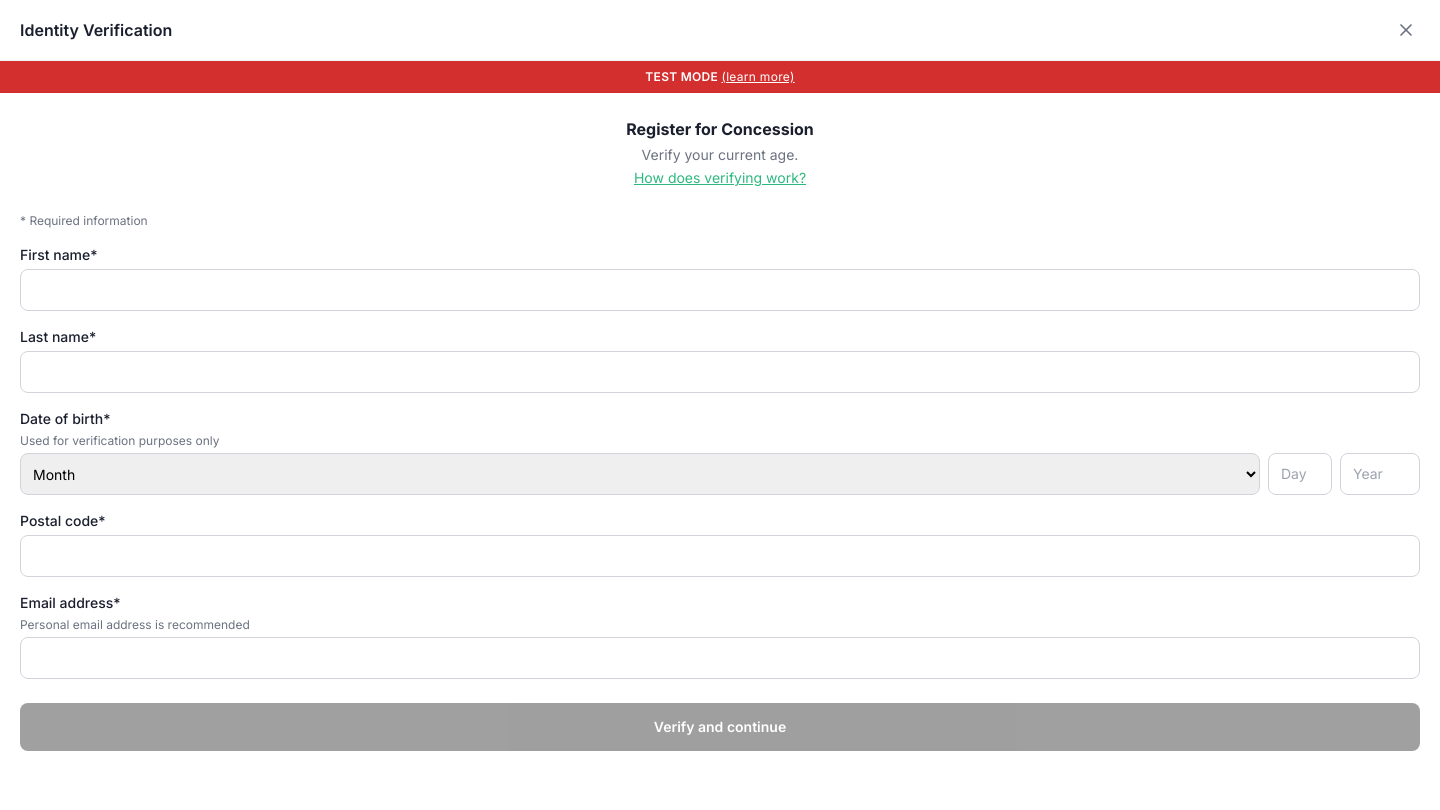
Test: SheerIDModal › clicking TEST MODE banner autofills all fields and enables Verify and continue
Click the button "TEST MODE (learn more)" at x=720, y=77, box [0,61,1439,93]
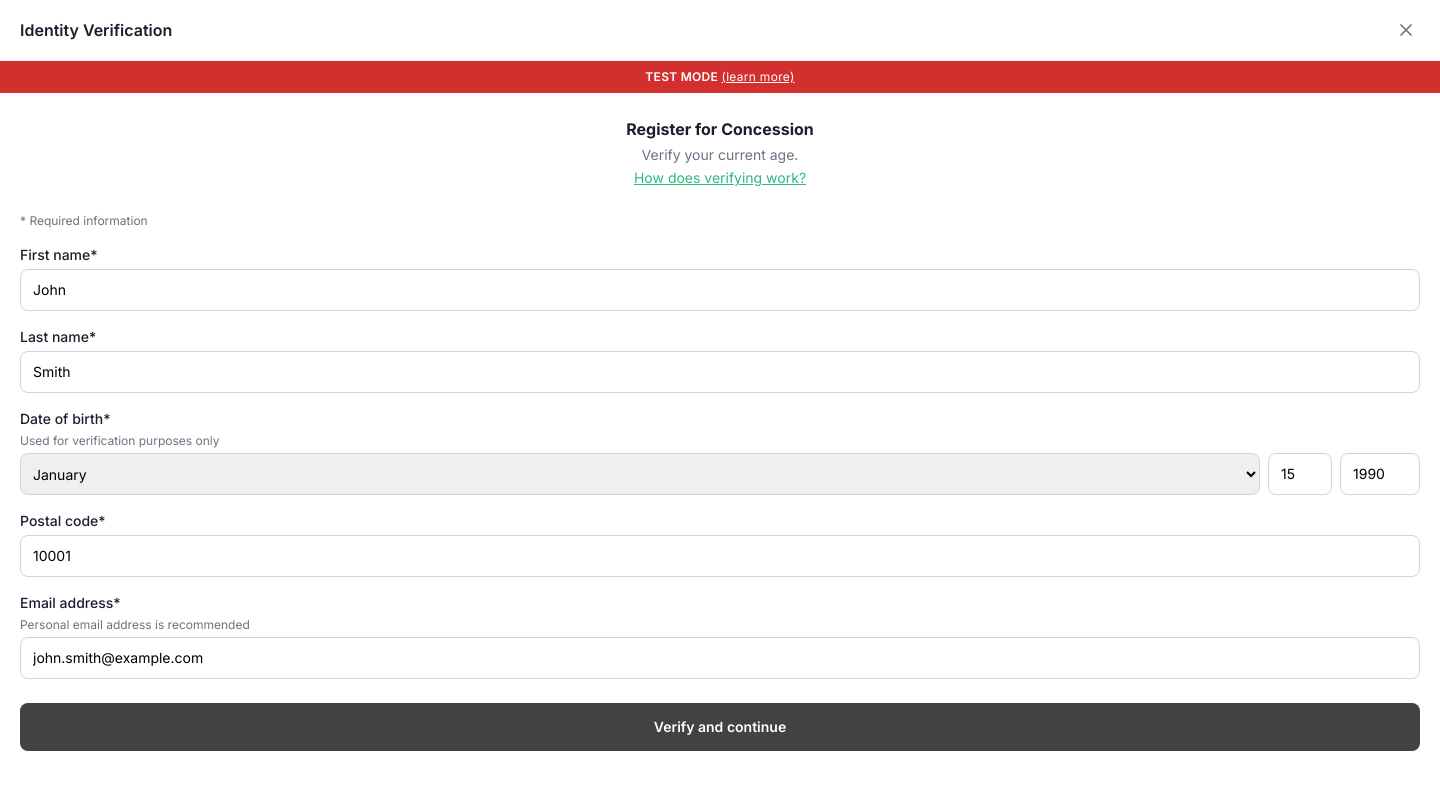
Now the field labelled "First name*" is not empty, box [20,269,1420,311]
Now the field labelled "Last name*" is not empty, box [20,351,1420,393]
Now the field labelled "Postal code*" is not empty, box [20,535,1420,577]
